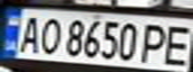0: (115, 19, 142, 63)
5: (100, 18, 124, 61)
6: (81, 17, 103, 60)
8: (63, 16, 87, 57)
A: (12, 12, 45, 54)
E: (157, 20, 193, 68)
O: (33, 15, 63, 55)
P: (136, 20, 172, 65)
